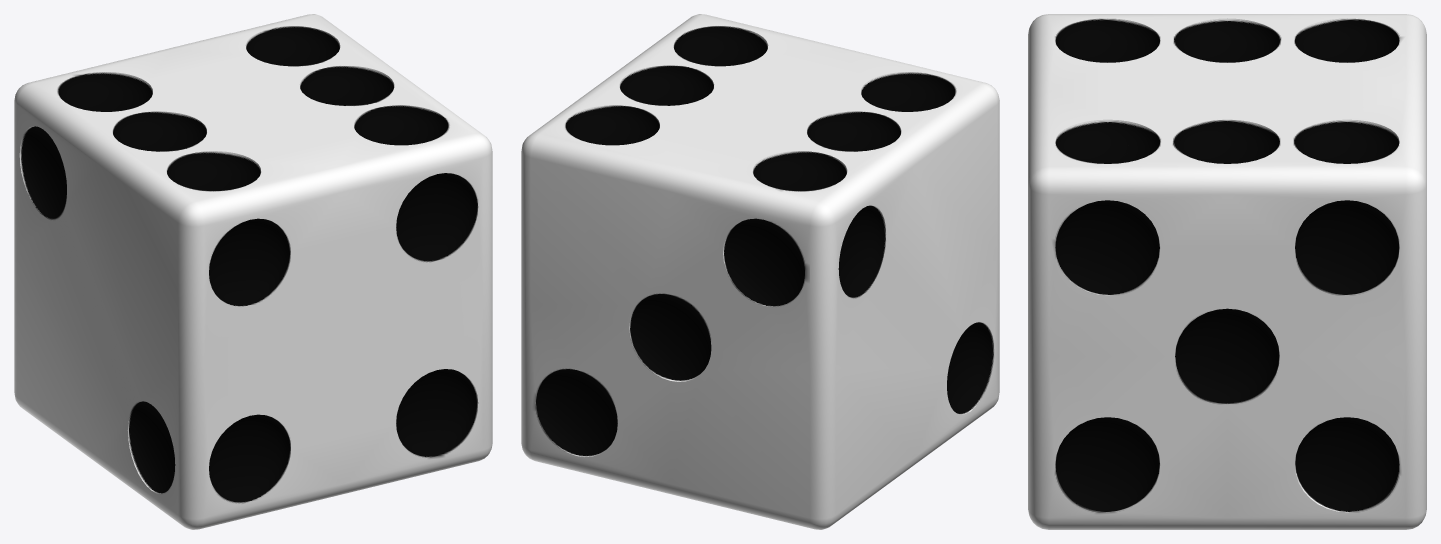
3 views of the same model, side by side, from view 1: azimuth 30°, elevation 25°; view 2: azimuth 150°, elevation 25°; view 3: azimuth 270°, elevation 25° (orthographic). The views are drawn at different scales.
Parts seen in each view (by area): view 1: node_id5; view 2: node_id5; view 3: node_id5.
Part boxes in pixels (<box>): node_id5: <box>14,14,492,529</box>; node_id5: <box>521,14,999,529</box>; node_id5: <box>1028,14,1426,529</box>.
Size of the model in its own units: 0.512 by 0.512 by 0.512.
Materials: 1 (1 with a texture image).
